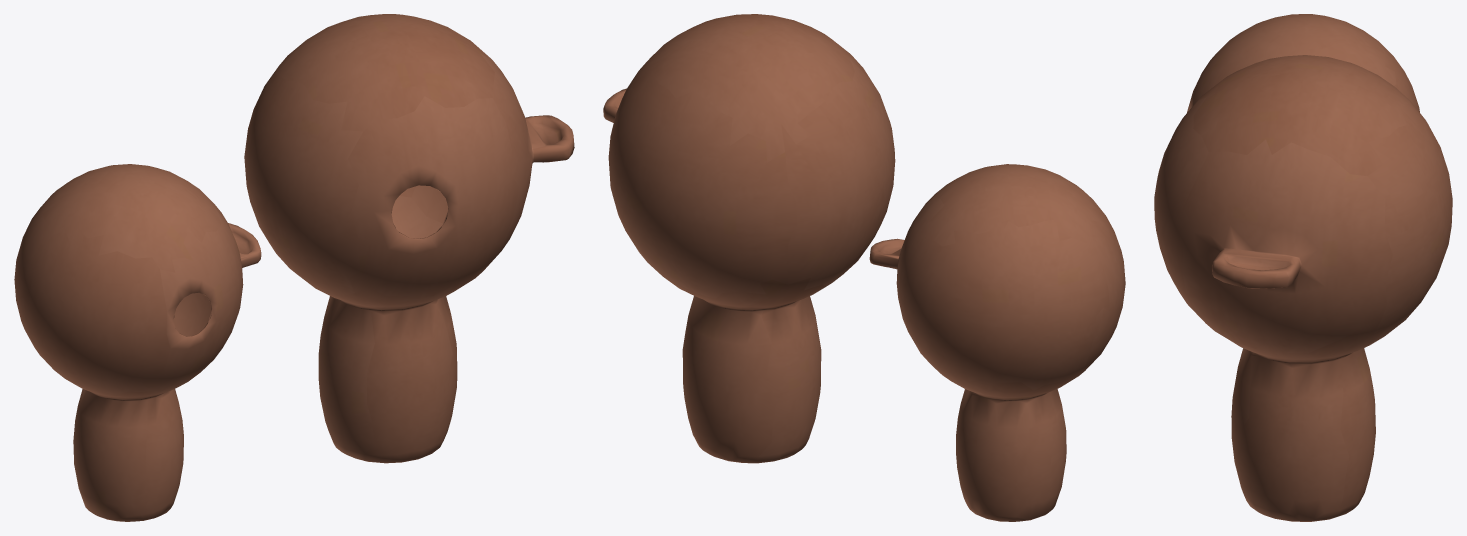
The picture shows the model from 3 angles, left to right: view 1: azimuth 30°, elevation 25°; view 2: azimuth 150°, elevation 25°; view 3: azimuth 270°, elevation 25°; orthographic projection. The views are drawn at different scales.
Parts seen in each view (by area): view 1: Sphere, Sphere.001; view 2: Sphere, Sphere.001; view 3: Sphere, Sphere.001.
Part boxes in pixels (box(x1,y1,x2,y2)): Sphere: box(244, 14, 574, 463); Sphere.001: box(14, 164, 261, 521); Sphere: box(603, 14, 895, 463); Sphere.001: box(869, 164, 1125, 521); Sphere: box(1154, 55, 1452, 521); Sphere.001: box(1187, 14, 1419, 112).
Bounding box in the file's own units: 0.5094 × 0.3893 × 0.2447.
Materials: 1 (1 with a texture image).
